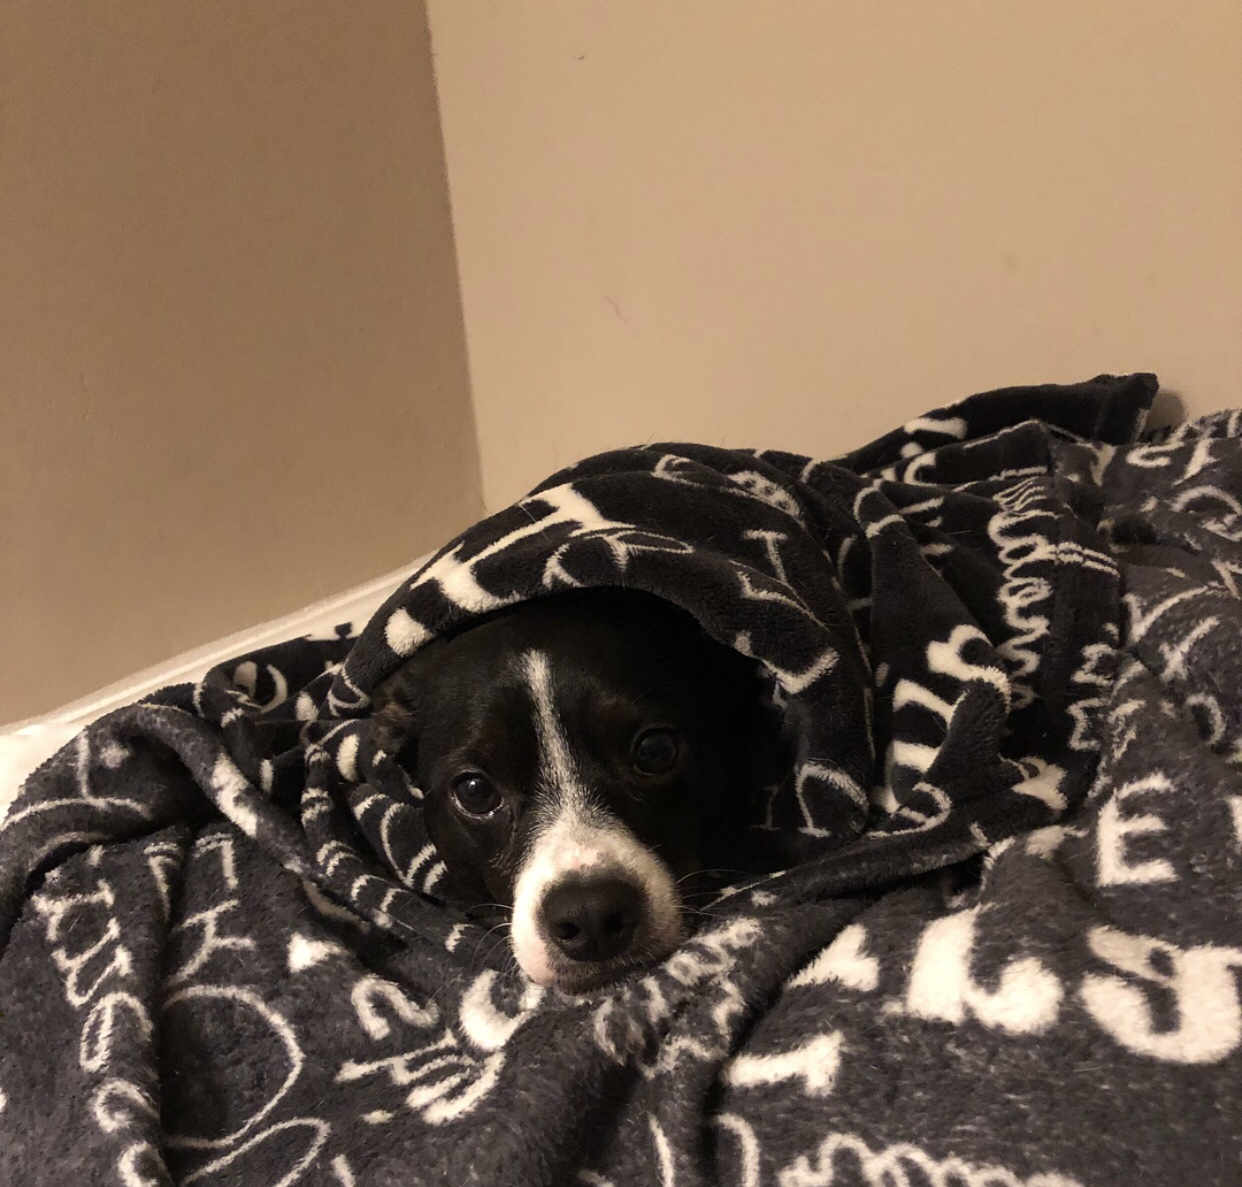Harley: (365, 589, 800, 1002)
